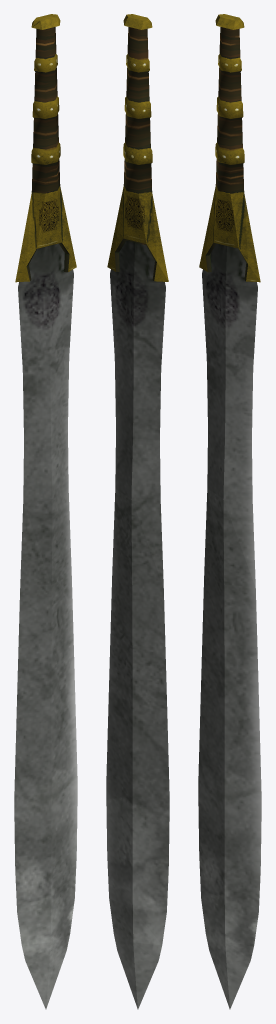
Rendered from SM_Sword.FBX.
3 views of the same model, side by side, from view 1: azimuth 30°, elevation 25°; view 2: azimuth 150°, elevation 25°; view 3: azimuth 330°, elevation 25° (orthographic).
Visible parts, largest first — view 1: Sword; view 2: Sword; view 3: Sword.
Boxes of the visible parts, bbox=[...] form: Sword: bbox=[14, 14, 77, 1009]; Sword: bbox=[106, 14, 169, 1009]; Sword: bbox=[198, 14, 261, 1009].
Size of the model in its own units: 26.3 by 392 by 9.32.
